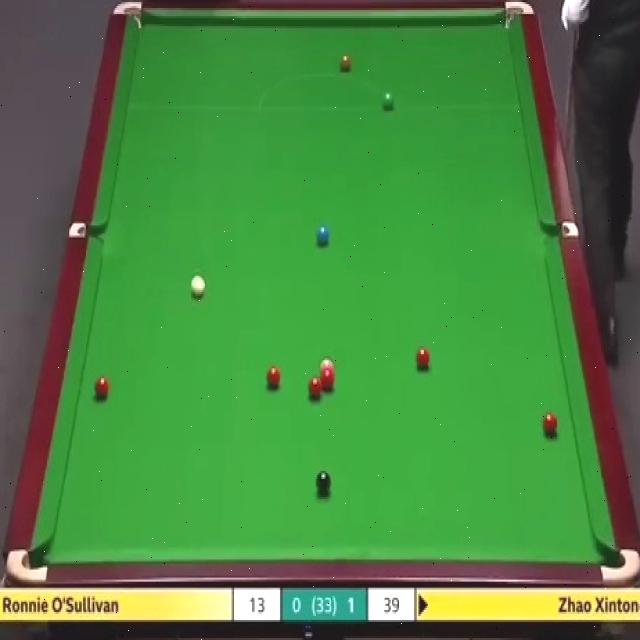black-ball: (316, 468, 332, 495)
blue-ball: (316, 223, 331, 246)
brown-ball: (339, 53, 352, 73)
green-ball: (381, 90, 394, 110)
pink-ball: (319, 358, 335, 373)
red-ball: (94, 374, 110, 401), (542, 414, 559, 436), (415, 347, 430, 370), (266, 366, 280, 389), (308, 376, 322, 399), (319, 370, 335, 390)
white-ball: (188, 272, 205, 297)
